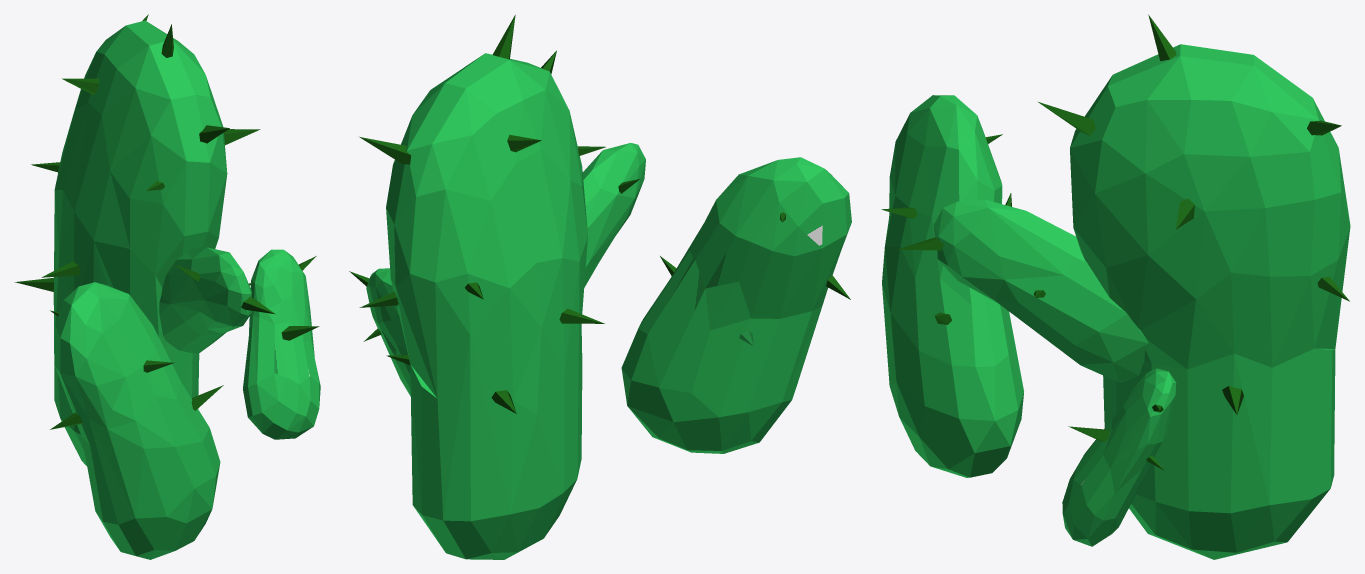
The model's file is Cactus.fbx.
3 views of the same model, side by side, from view 1: azimuth 30°, elevation 25°; view 2: azimuth 150°, elevation 25°; view 3: azimuth 270°, elevation 25° (orthographic). The views are drawn at different scales.
Parts seen in each view (by area): view 1: Mball.001, Mball.002, Mball.004; view 2: Mball.001, Mball.002, Mball.004; view 3: Mball.001, Mball.002, Mball.004, Plane.002.
Boxes of the visible parts, box(x1,y1,x2,y2) form: Mball.001: box(53, 20, 251, 465); Mball.002: box(54, 282, 220, 559); Mball.004: box(243, 249, 320, 439); Mball.001: box(386, 53, 645, 559); Mball.002: box(621, 157, 851, 453); Mball.004: box(366, 268, 410, 396); Mball.001: box(933, 44, 1350, 559); Mball.002: box(882, 95, 1023, 477); Mball.004: box(1062, 368, 1176, 546); Plane.002: box(1037, 101, 1095, 135).
Bounding box in the file's own units: 115 × 143 × 111.
Materials: 2 (1 with a texture image).
